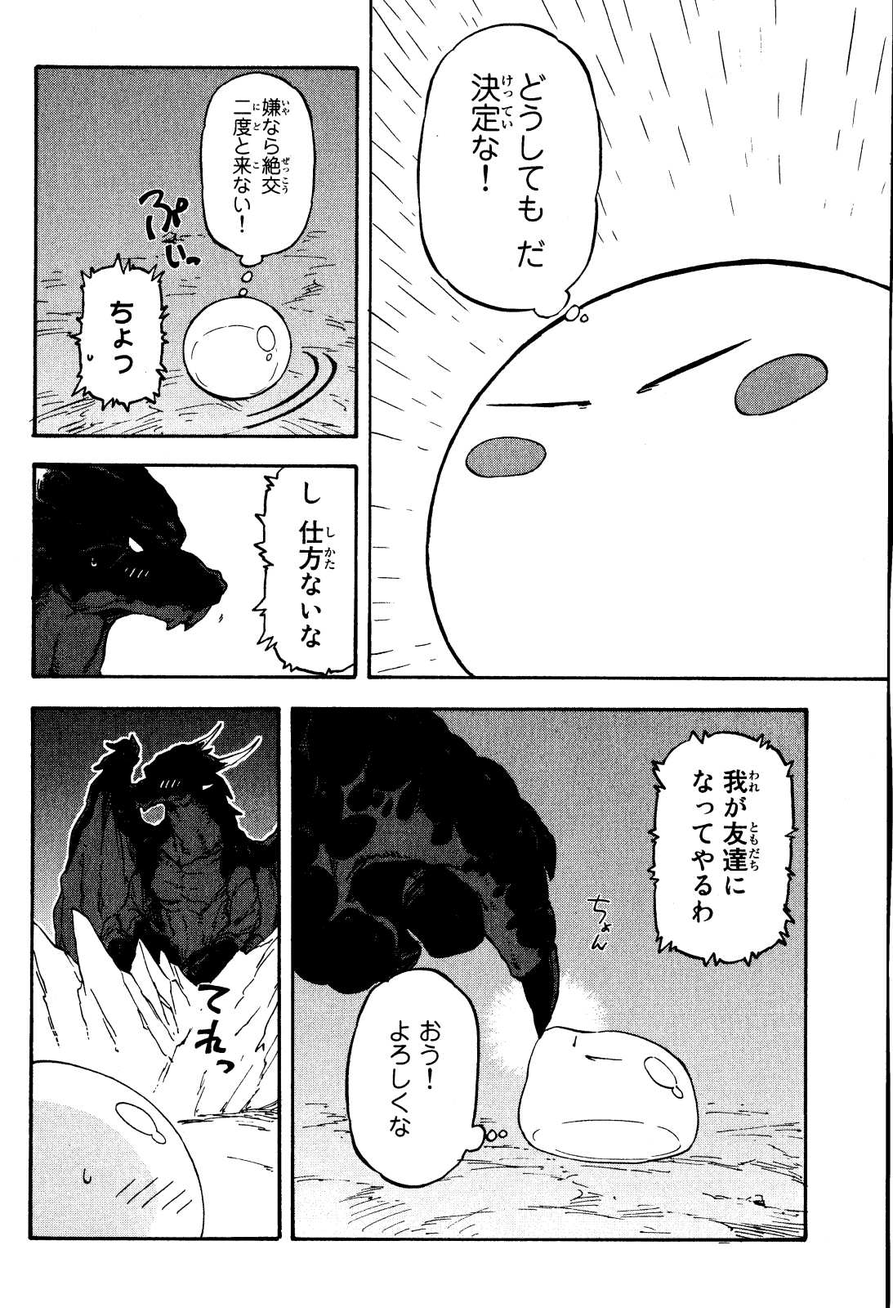bubbles: (418, 21, 600, 329), (640, 716, 803, 978), (342, 965, 513, 1191), (195, 73, 315, 300), (251, 465, 355, 679), (65, 248, 176, 419)
